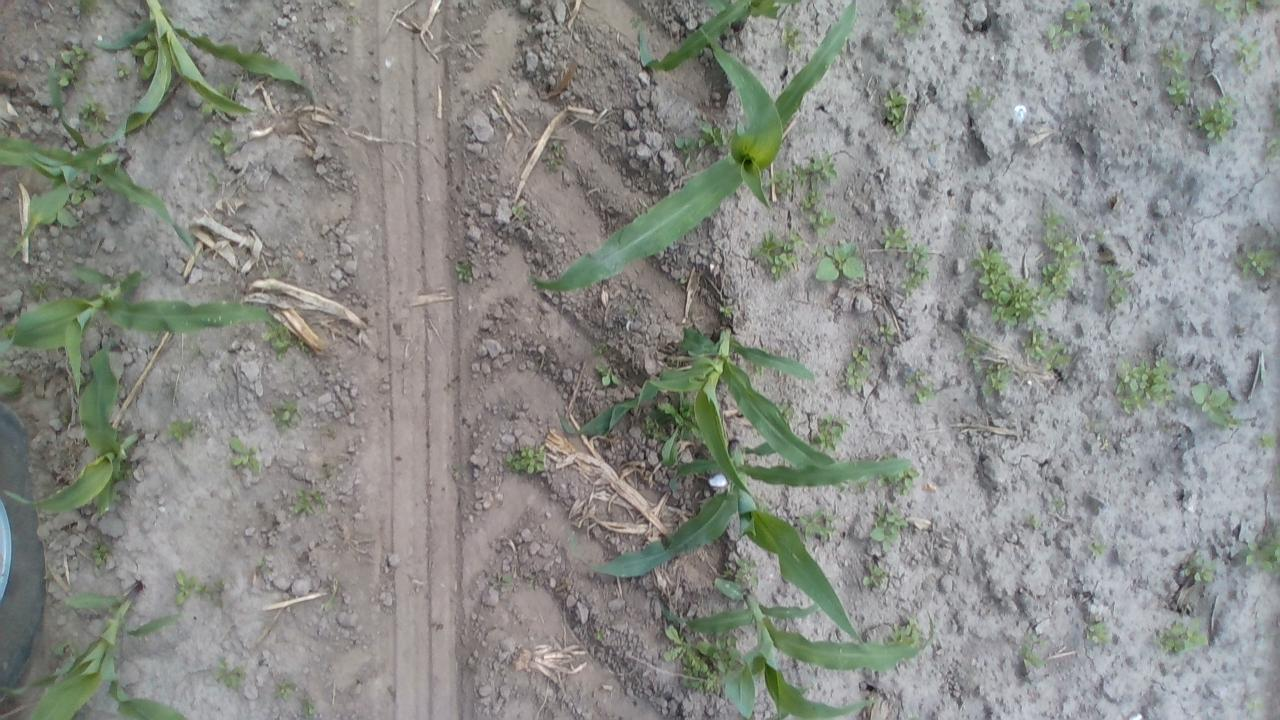Maize: (530, 1, 858, 292), (592, 438, 912, 652), (564, 322, 836, 500), (660, 577, 934, 720), (2, 69, 204, 260), (6, 264, 290, 391), (92, 1, 316, 138), (0, 578, 187, 720), (4, 342, 142, 518), (639, 0, 810, 69)
Weeds: (768, 158, 841, 229), (976, 247, 1036, 325), (1040, 210, 1078, 313), (1118, 358, 1174, 412), (656, 398, 696, 466), (756, 230, 808, 281), (1024, 328, 1072, 371), (816, 241, 864, 283), (678, 651, 722, 695), (1192, 382, 1234, 428), (1198, 94, 1238, 138), (1158, 620, 1208, 652), (843, 342, 871, 393), (1246, 529, 1280, 570), (696, 638, 742, 668), (264, 320, 307, 352), (174, 572, 213, 605), (1202, 0, 1260, 22), (1235, 248, 1277, 278), (56, 46, 86, 87), (1105, 266, 1133, 308), (230, 436, 262, 472), (508, 444, 546, 474), (872, 511, 906, 544), (1184, 551, 1220, 582), (890, 3, 926, 33), (906, 244, 930, 288), (803, 509, 836, 540), (1231, 38, 1262, 71), (134, 31, 154, 82), (212, 656, 243, 687), (818, 416, 848, 448), (735, 556, 764, 588), (662, 626, 688, 661), (292, 488, 326, 514), (696, 120, 726, 149), (80, 99, 108, 129), (884, 88, 906, 126), (984, 366, 1010, 398), (1064, 0, 1090, 32), (1157, 47, 1189, 71), (1168, 76, 1192, 105), (274, 400, 300, 426), (882, 224, 908, 250), (1046, 22, 1070, 50), (1086, 620, 1111, 646), (544, 138, 562, 174), (886, 626, 918, 646), (860, 560, 884, 586), (596, 364, 620, 387), (780, 23, 800, 50), (1022, 646, 1042, 672), (167, 422, 194, 441), (274, 678, 296, 700), (92, 542, 111, 567), (717, 299, 739, 320), (914, 382, 935, 403), (674, 134, 695, 154), (965, 82, 986, 102), (884, 468, 918, 480), (1256, 430, 1276, 450), (210, 126, 228, 148), (456, 261, 474, 281), (492, 572, 512, 590), (302, 696, 318, 718), (1101, 27, 1118, 44), (509, 204, 525, 222), (878, 326, 896, 342), (782, 398, 799, 414), (1089, 540, 1108, 554), (1028, 513, 1042, 530), (593, 624, 606, 642), (116, 64, 130, 80), (592, 342, 610, 354), (1054, 496, 1066, 512)
